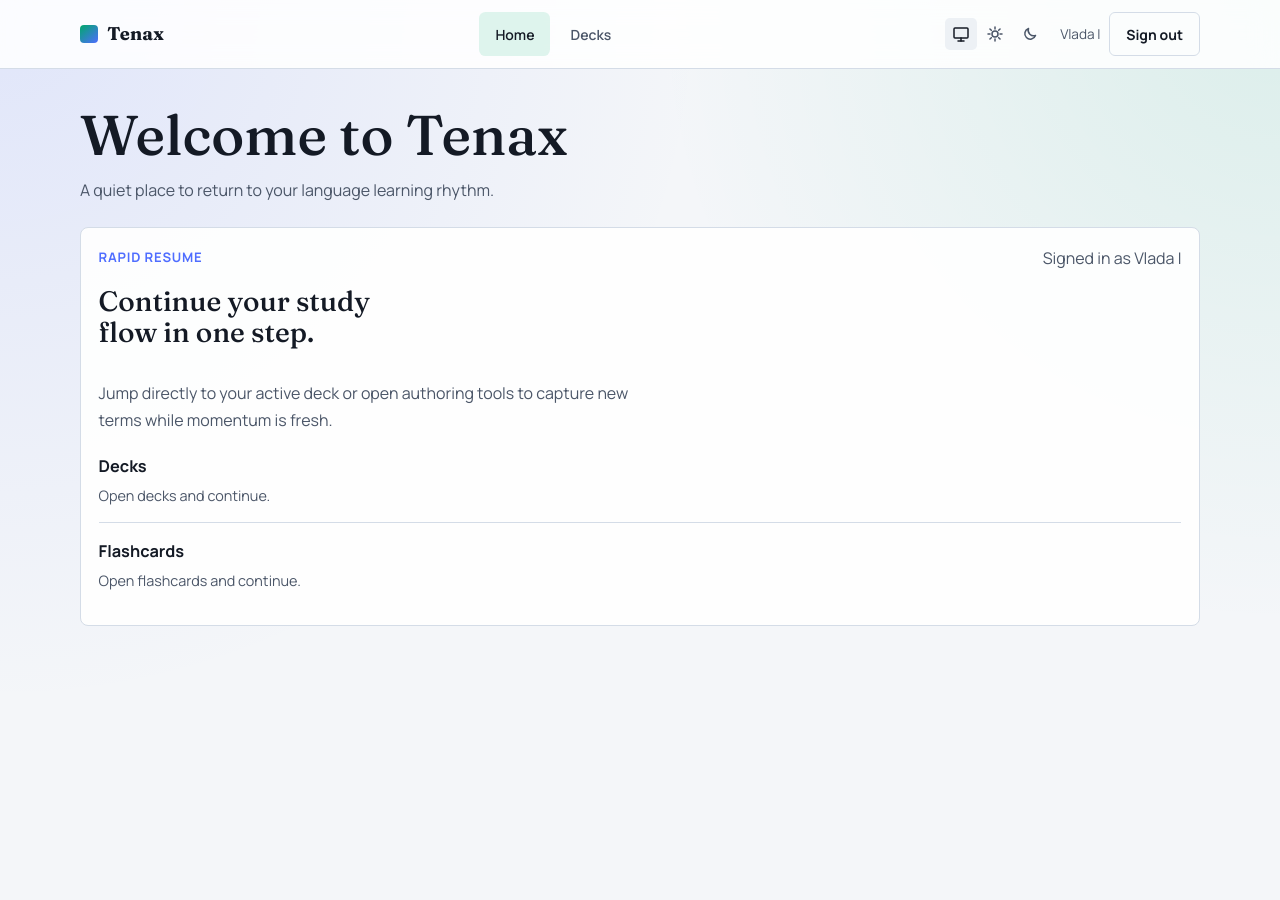
Test: home route auth behavior › renders authenticated menu and logs out to anonymous state
Expected: the text "Signed in as Vlada I" is shown, [1043, 246, 1182, 270]
Expected: the navigation bar named "learning menu" is shown, [99, 450, 1181, 608]
Click the button "Sign out" at (1155, 34), box [1109, 12, 1200, 56]
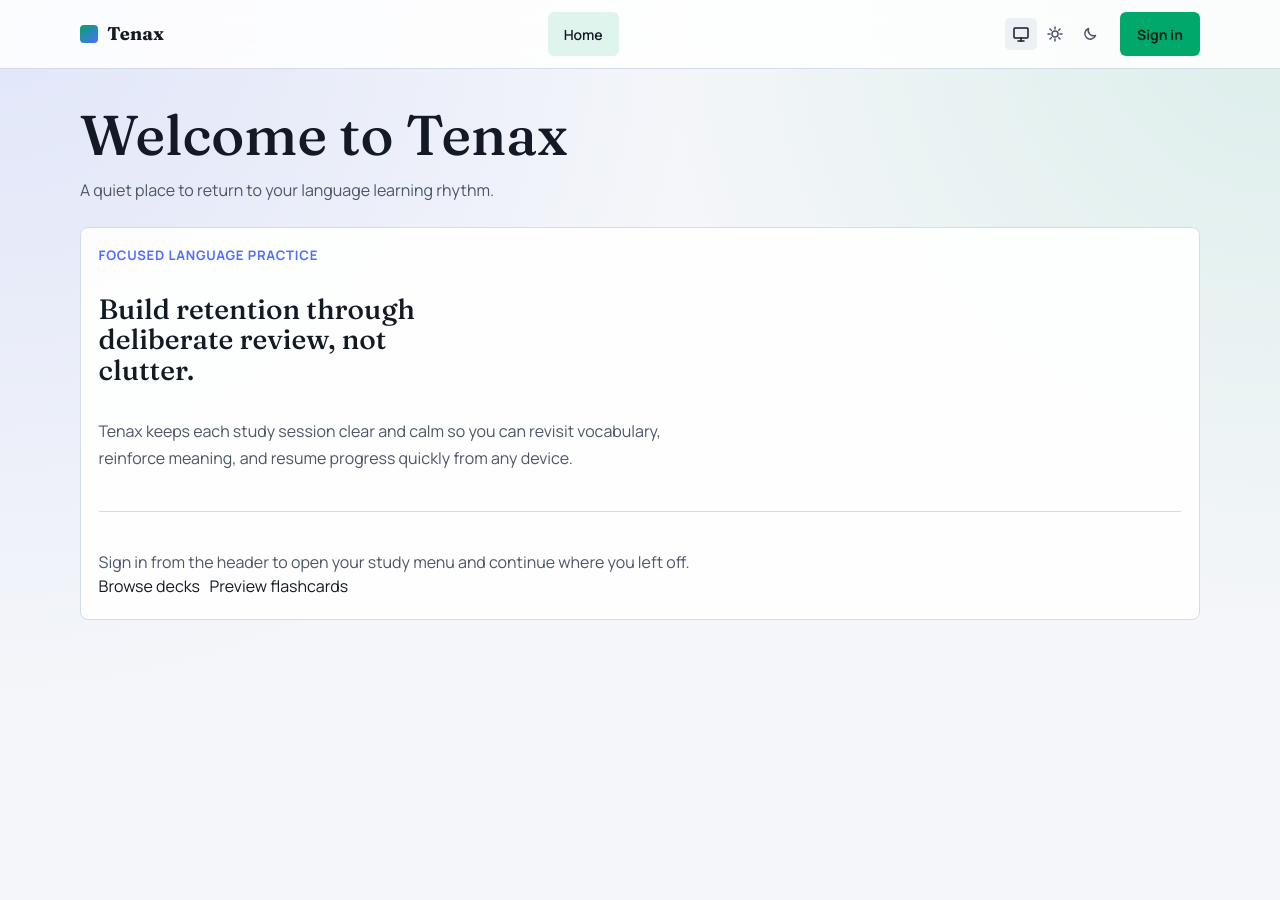
Expected: the button "Sign in" is shown, [1120, 12, 1200, 56]
